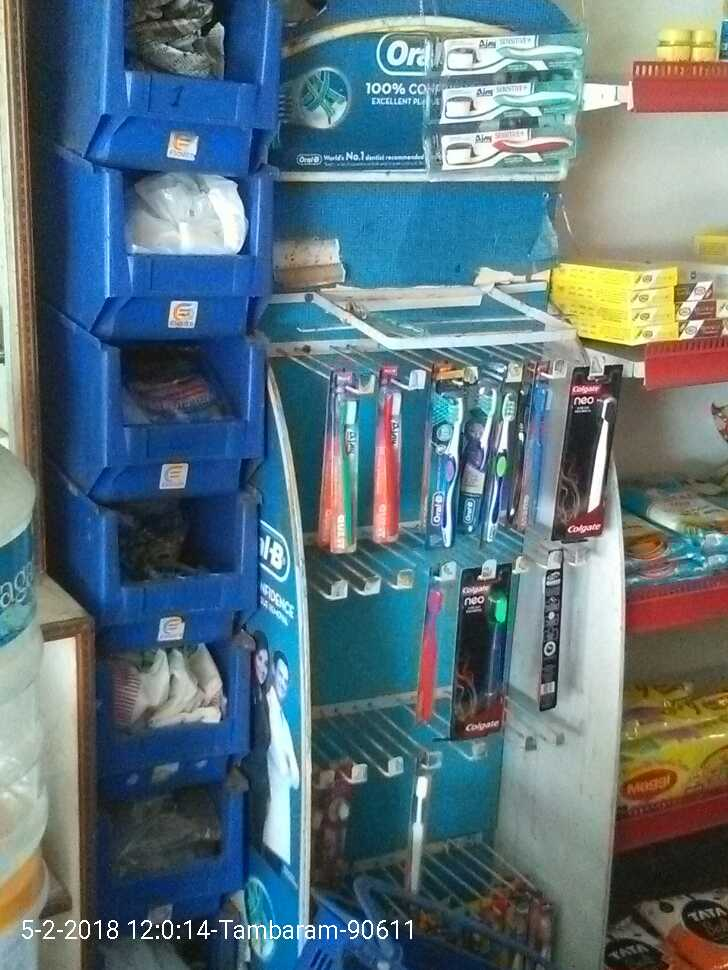oralb: (429, 391, 521, 543), (436, 35, 592, 73), (422, 90, 588, 122), (435, 140, 582, 168)
